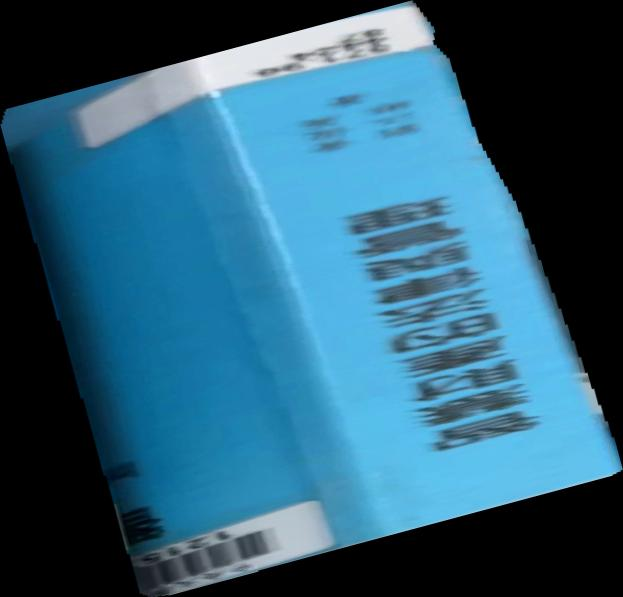reverse: (1, 1, 623, 597)
